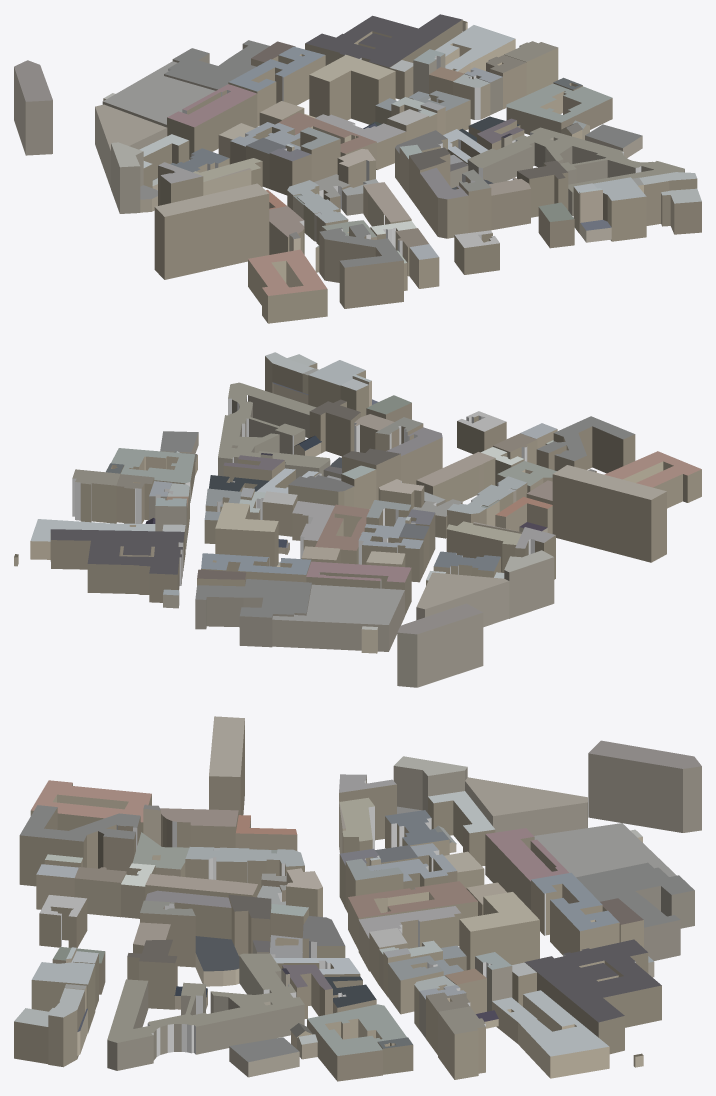
3 views of the same model, one above another, from view 1: azimuth 30°, elevation 25°; view 2: azimuth 150°, elevation 25°; view 3: azimuth 270°, elevation 25° (orthographic). The views are drawn at different scales.
Visible parts, largest first — view 1: tuile; view 2: tuile; view 3: tuile.
Part boxes in pixels (x1,y1,x2,y2): tuile: [14, 14, 701, 323]; tuile: [14, 352, 701, 687]; tuile: [14, 716, 701, 1081].
Size of the model in its own units: 282 by 35.32 by 281.
